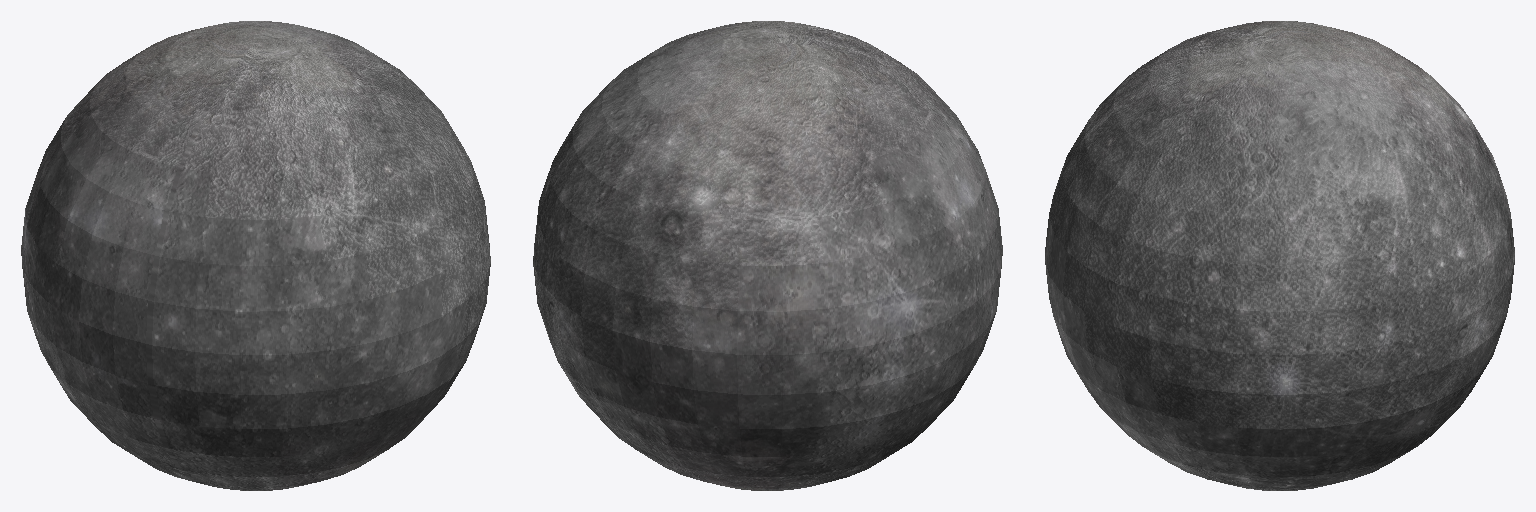
3 views of the same model, side by side, from view 1: azimuth 30°, elevation 25°; view 2: azimuth 150°, elevation 25°; view 3: azimuth 270°, elevation 25° (orthographic).
Visible parts, largest first — view 1: Sphere; view 2: Sphere; view 3: Sphere.
Part boxes in pixels (bbox=[...]): Sphere: bbox=[21, 21, 490, 490]; Sphere: bbox=[533, 21, 1002, 490]; Sphere: bbox=[1045, 21, 1514, 490].
Size of the model in its own units: 2 by 2 by 2.
Materials: 1 (1 with a texture image).